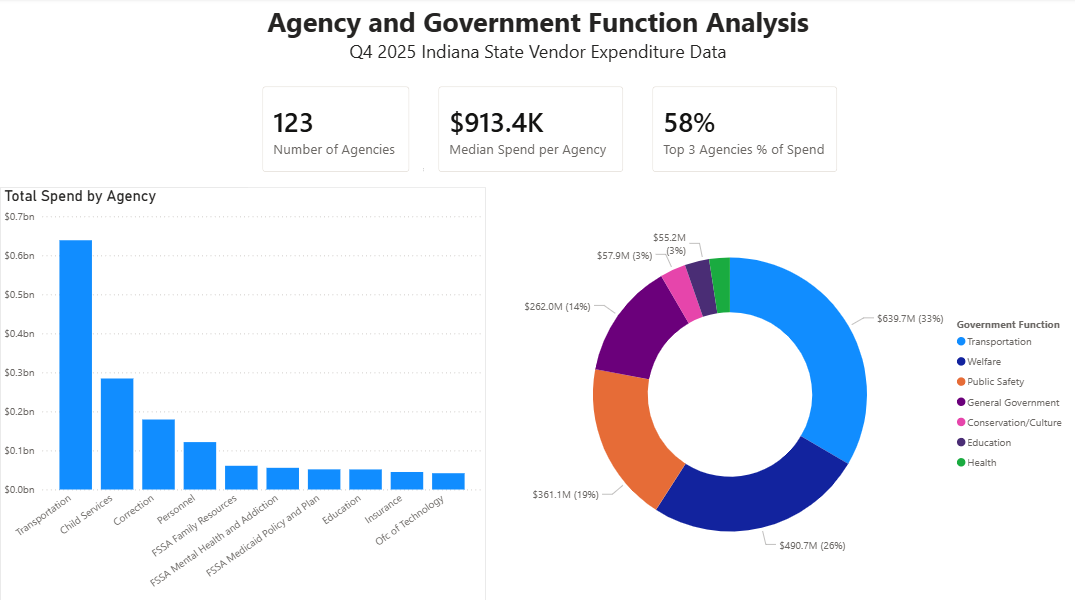

What the dashboard file says about the page in this screenshot:
{"tool":"powerbi","page":{"name":"Page 2","canvas":[1280,720],"ordinal":1},"visuals":[{"type":"donutChart","fields":{"Y":["vendor_2025q4.Total Spend"],"Category":["vendor_2025q4.Function Label"]},"box":[593.6,224.8,686.4,493.7],"z":0},{"type":"clusteredColumnChart","title":"Total Spend by Agency","fields":{"Category":["vendor_2025q4.Agency Name"],"Y":["vendor_2025q4.Total Spend"]},"box":[0,224.8,578.1,494.9],"z":1},{"type":"cardVisual","fields":{"Data":["Count(vendor_2025q4.Agency ID)"]},"box":[295,88,209.4,136.8],"z":2},{"type":"cardVisual","fields":{"Data":["vendor_2025q4.Median Agency Spend"]},"box":[504.4,88,254.6,136.8],"z":3},{"type":"cardVisual","fields":{"Data":["vendor_2025q4.Top 3 Agencies % of Spend"]},"box":[759,88,254.6,136.8],"z":4},{"type":"textbox","box":[0,0,1280,90.4],"z":5}]}

Visuals, with their boxes in screenshot pixels (x1, y1, x2, y2), scaled from the page's 1280x720 canvas onto the 1075x600 screenshot:
donutChart - vendor_2025q4.Total Spend x vendor_2025q4.Function Label: 499:187:1074:599
"Total Spend by Agency" clusteredColumnChart: 0:187:486:599
cardVisual - Count(vendor_2025q4.Agency ID): 248:73:424:187
cardVisual - vendor_2025q4.Median Agency Spend: 424:73:637:187
cardVisual - vendor_2025q4.Top 3 Agencies % of Spend: 637:73:851:187
textbox: 0:0:1074:75
